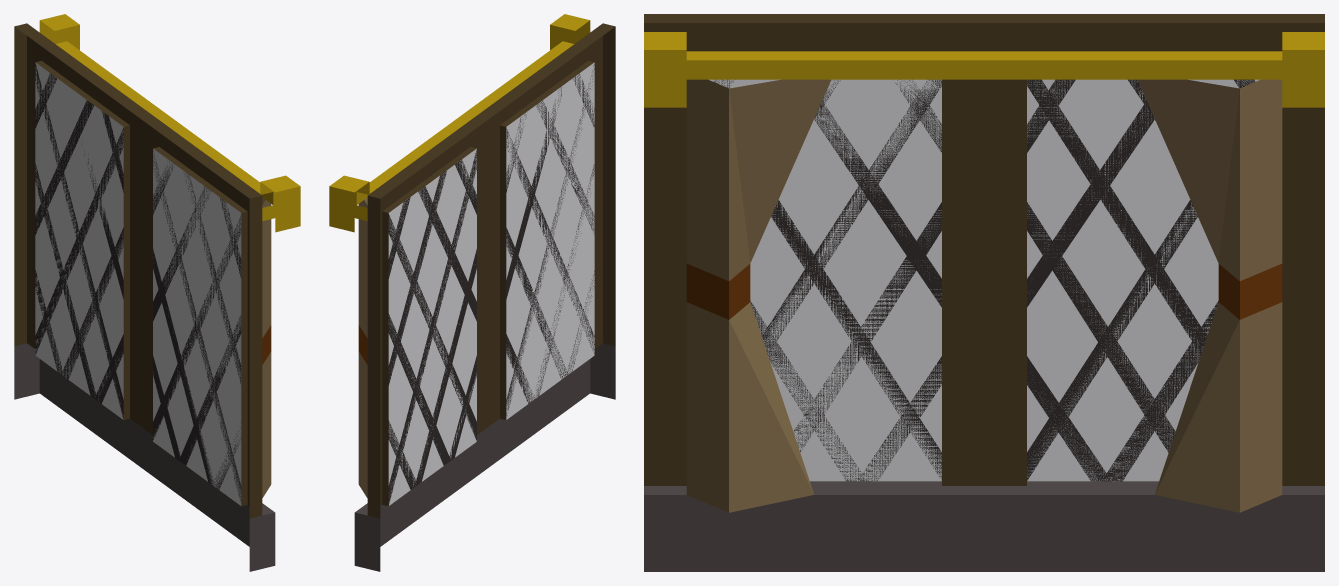
File: model_loc_1829_q.obj
3 renders of one model, left to right at view 1: azimuth 30°, elevation 25°; view 2: azimuth 150°, elevation 25°; view 3: azimuth 270°, elevation 25°, orthographic. The views are drawn at different scales.
Visible parts, largest first — view 1: 2123; view 2: 2123; view 3: 2123.
Boxes of the visible parts, x1,y1,x2,y2 form: 2123: (14,14,300,571); 2123: (329,14,615,571); 2123: (644,14,1324,571).
Bounding box in the file's own units: 16 × 112 × 128.
